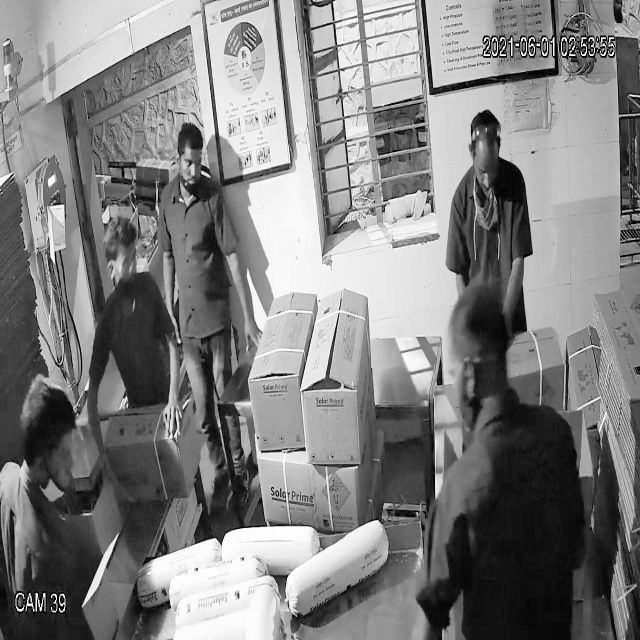Gafas: (102, 244, 140, 284)
Sin_gafas: (467, 153, 500, 187)
